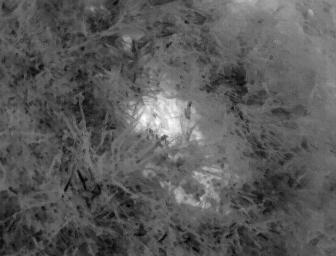landmine: (119, 86, 227, 214)
